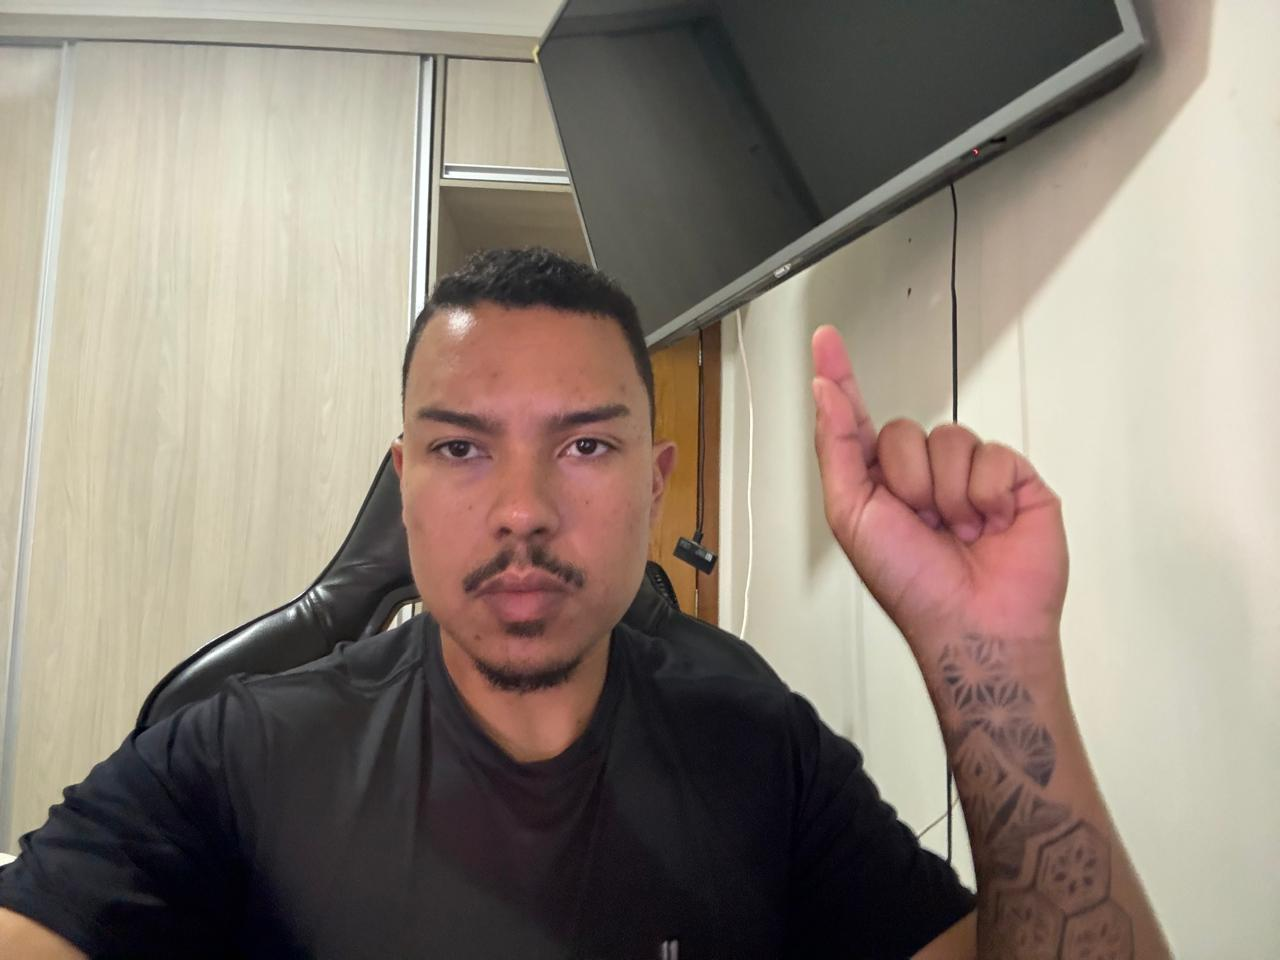g: (801, 317, 1077, 639)
